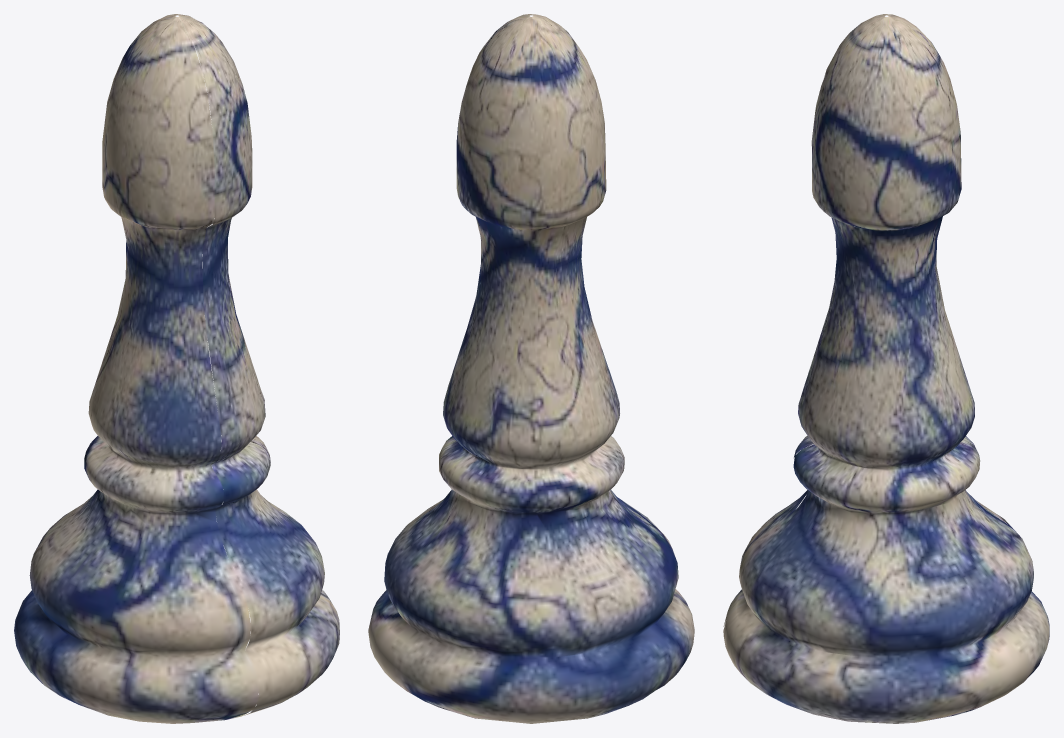
File: cobalt_vein_white_queen.glb
3 renders of one model, left to right at view 1: azimuth 30°, elevation 25°; view 2: azimuth 150°, elevation 25°; view 3: azimuth 270°, elevation 25°, orthographic.
Visible parts, largest first — view 1: Cobalt Vein white queen; view 2: Cobalt Vein white queen; view 3: Cobalt Vein white queen.
Part boxes in pixels (x1,y1,x2,y2): Cobalt Vein white queen: [14, 14, 339, 723]; Cobalt Vein white queen: [368, 14, 694, 723]; Cobalt Vein white queen: [723, 14, 1049, 723].
Bounding box in the file's own units: 0.0378 × 0.0839 × 0.0379.
Materials: 1 (1 with a texture image).
